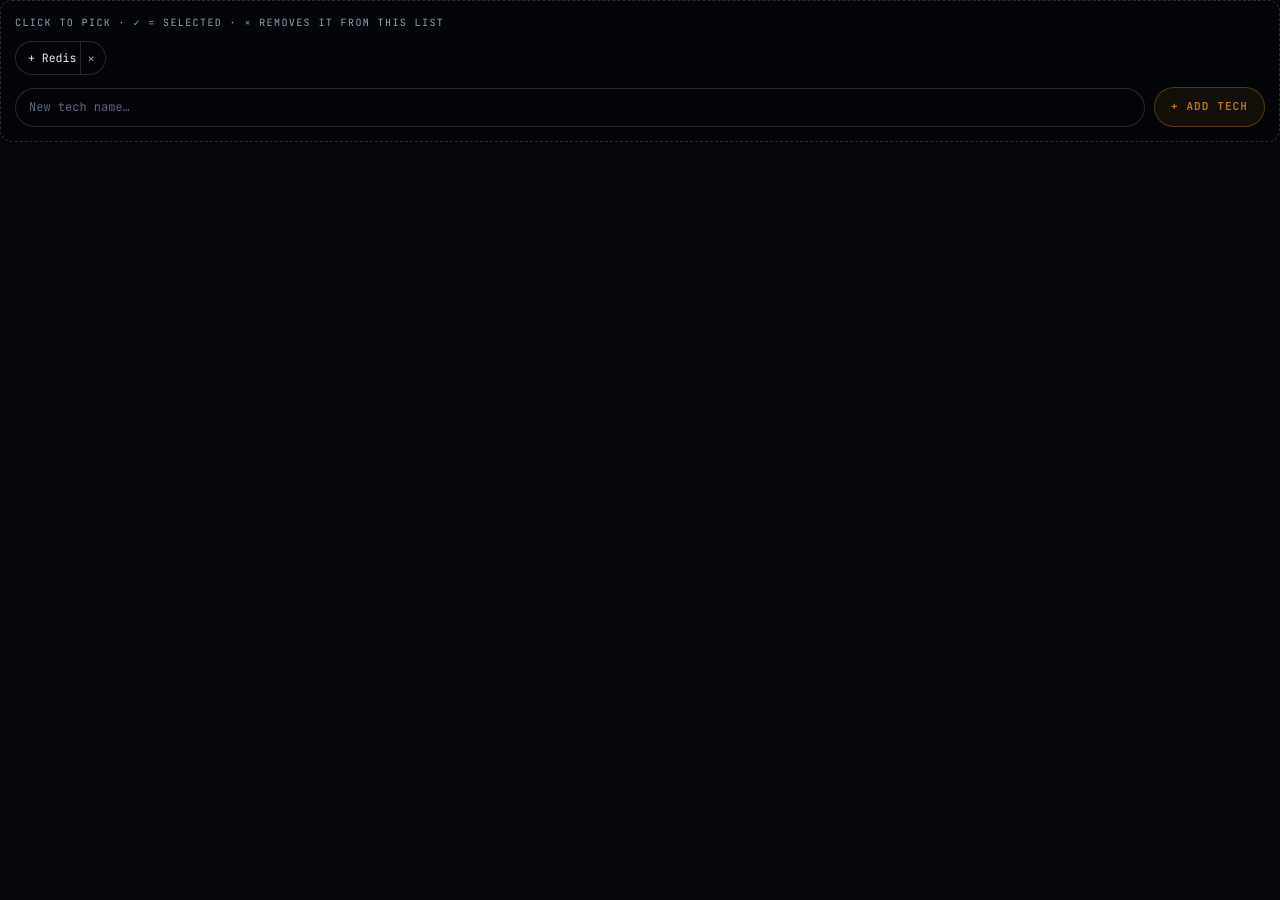
VocabularyPicker › keeps YES, REMOVE disabled until the impact count arrives
Click the button named "Remove Redis from the tech list". click: (93, 58)
box: 80,42 -> 105,74
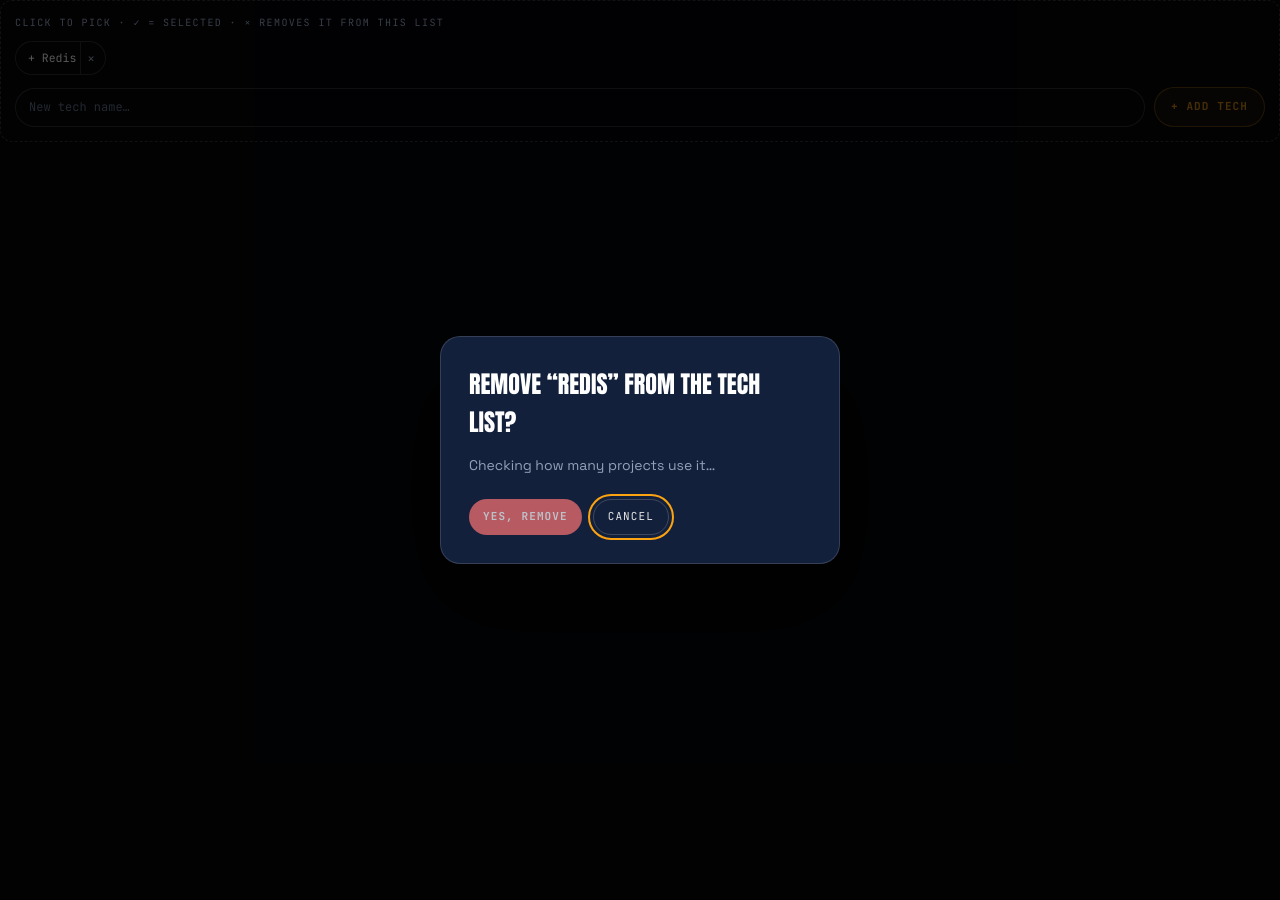
Result: the text "Checking how many projects use it…" is shown at 469,456 -> 715,474
Result: the button "YES, REMOVE" is disabled at 469,500 -> 582,535
